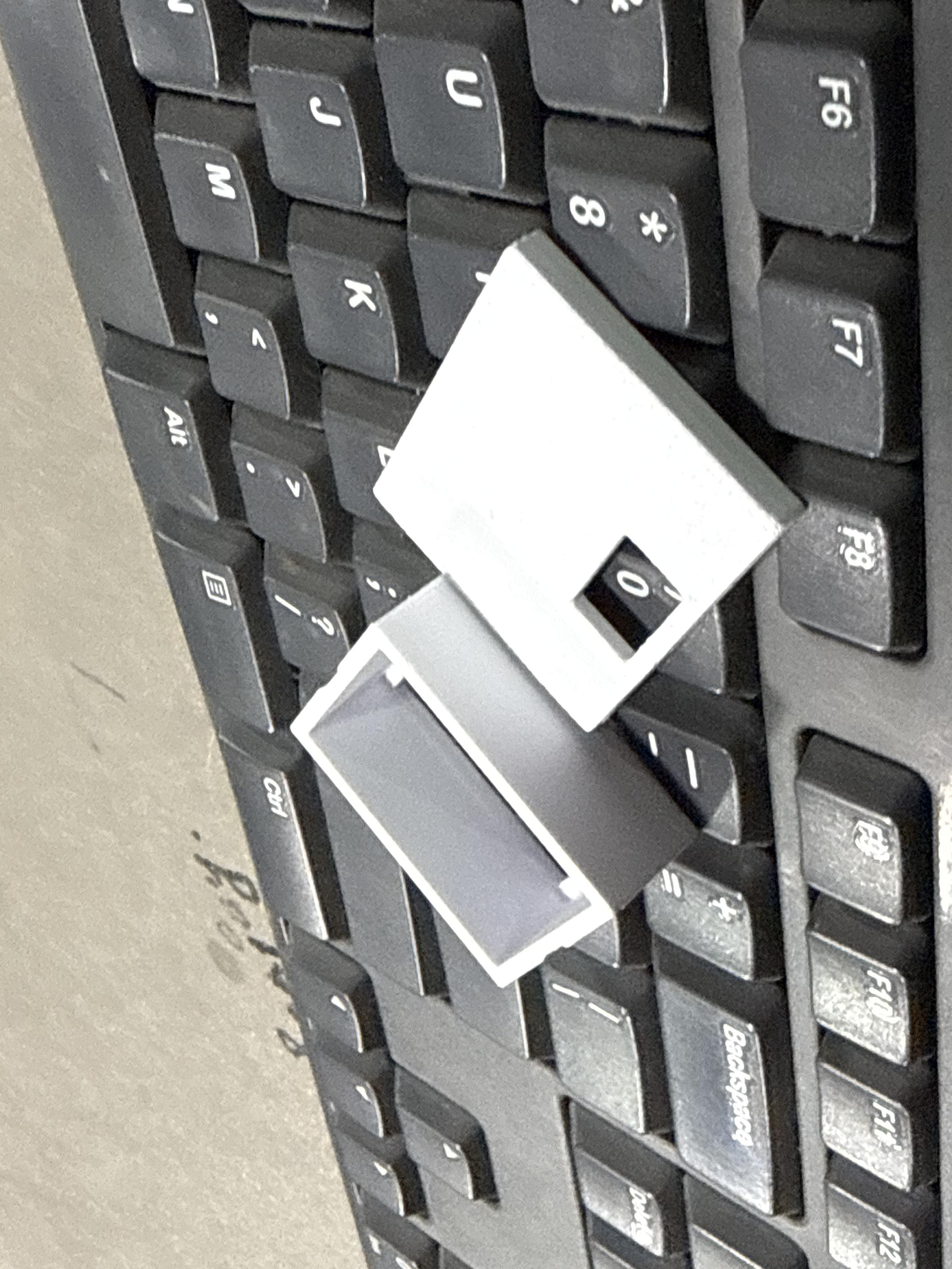enclosure: (289, 228, 809, 989)
